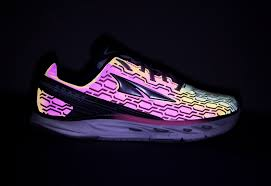shoe: (21, 29, 260, 149)
